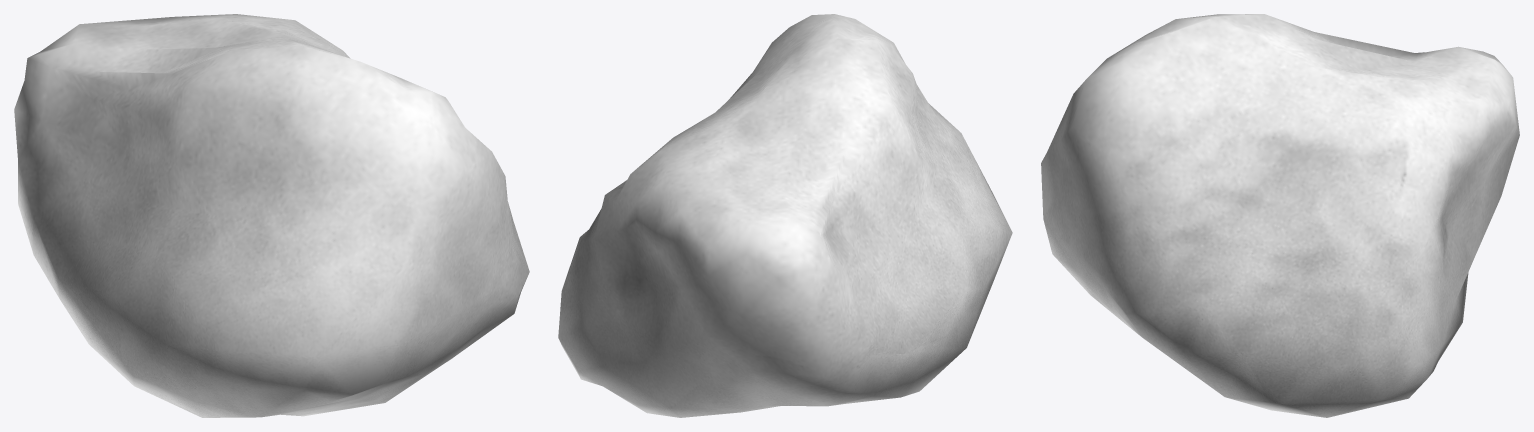
Rendered from Rock-5.fbx.
The picture shows the model from 3 angles, left to right: view 1: azimuth 30°, elevation 25°; view 2: azimuth 150°, elevation 25°; view 3: azimuth 270°, elevation 25°; orthographic projection. The views are drawn at different scales.
Visible parts, largest first — view 1: Cube.007; view 2: Cube.007; view 3: Cube.007.
Boxes of the visible parts, x1,y1,x2,y2 form: Cube.007: (14, 14, 529, 417); Cube.007: (558, 14, 1012, 417); Cube.007: (1041, 14, 1519, 417).
Bounding box in the file's own units: 137 × 121 × 159.
